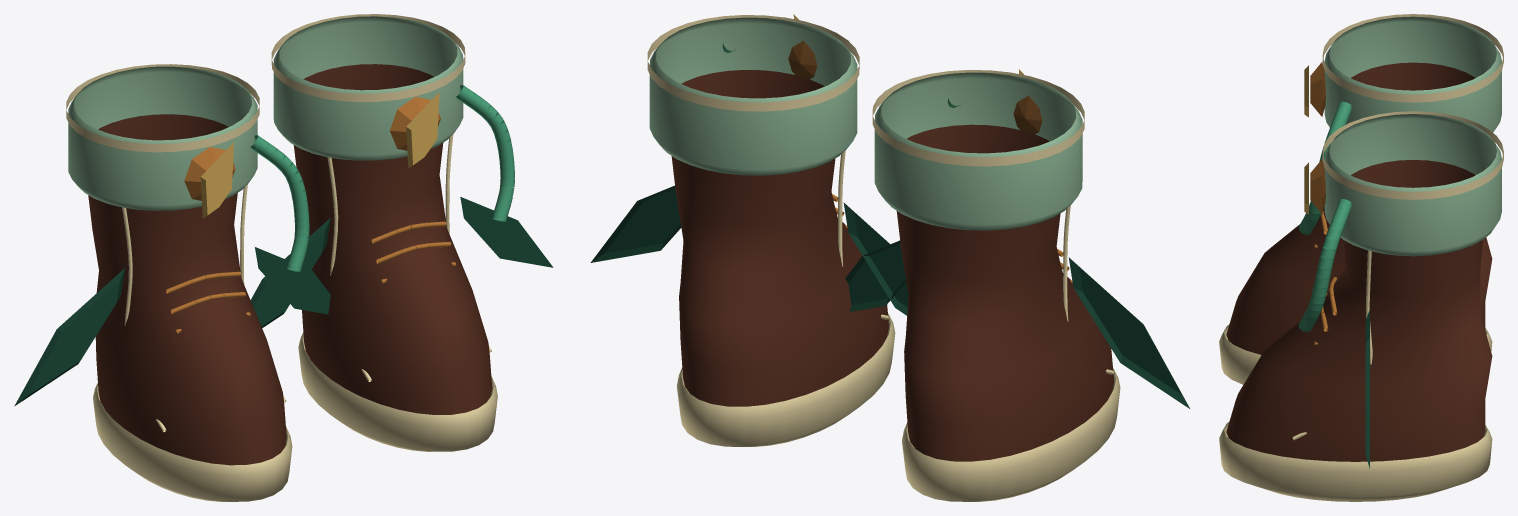
Rendered from Wind.obj.
3 renders of one model, left to right at view 1: azimuth 30°, elevation 25°; view 2: azimuth 150°, elevation 25°; view 3: azimuth 270°, elevation 25°, orthographic. The views are drawn at different scales.
Visible parts, largest first — view 1: Wind; view 2: Wind; view 3: Wind.
Boxes of the visible parts, x1,y1,x2,y2 form: Wind: (14, 14, 553, 501); Wind: (590, 14, 1189, 501); Wind: (1219, 14, 1503, 501).
Size of the model in its own units: 25.6 by 15.05 by 11.88.
